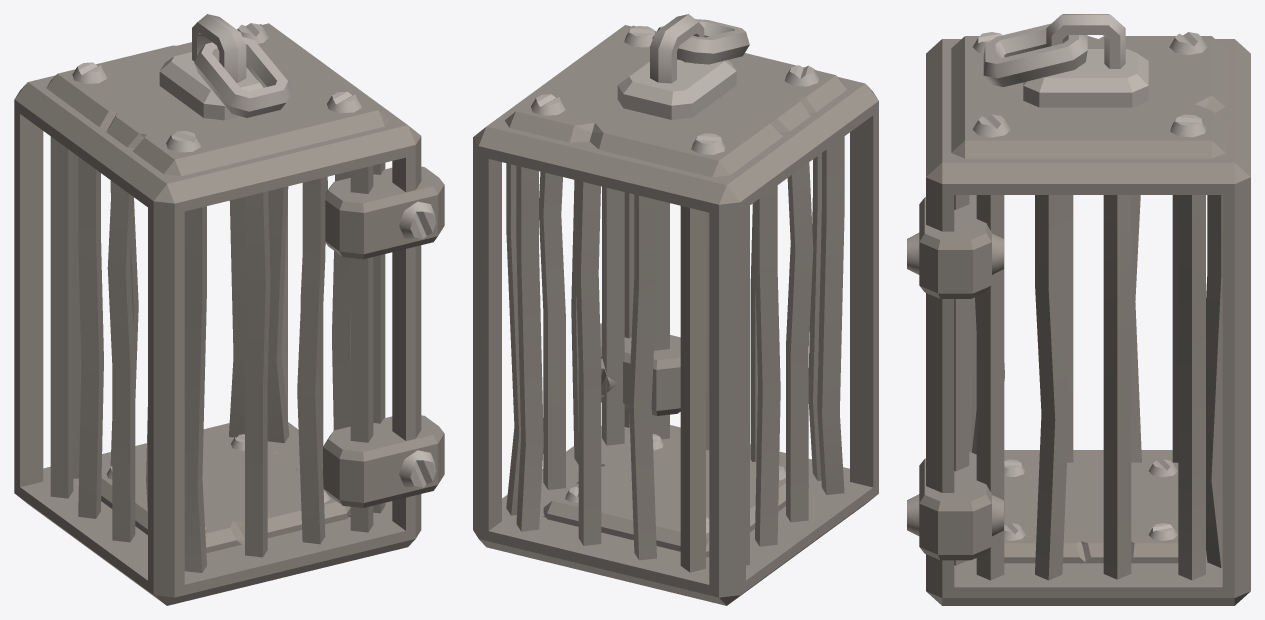
File: m_dec_dung_cage.fbx
The picture shows the model from 3 angles, left to right: view 1: azimuth 30°, elevation 25°; view 2: azimuth 150°, elevation 25°; view 3: azimuth 270°, elevation 25°; orthographic projection. The views are drawn at different scales.
Visible parts, largest first — view 1: m_dec_dung_cage; view 2: m_dec_dung_cage; view 3: m_dec_dung_cage.
Boxes of the visible parts, bbox=[...] form: m_dec_dung_cage: bbox=[14, 14, 444, 605]; m_dec_dung_cage: bbox=[473, 14, 878, 605]; m_dec_dung_cage: bbox=[907, 14, 1250, 605].
Bounding box in the file's own units: 2.16 × 3.6 × 2.12.
